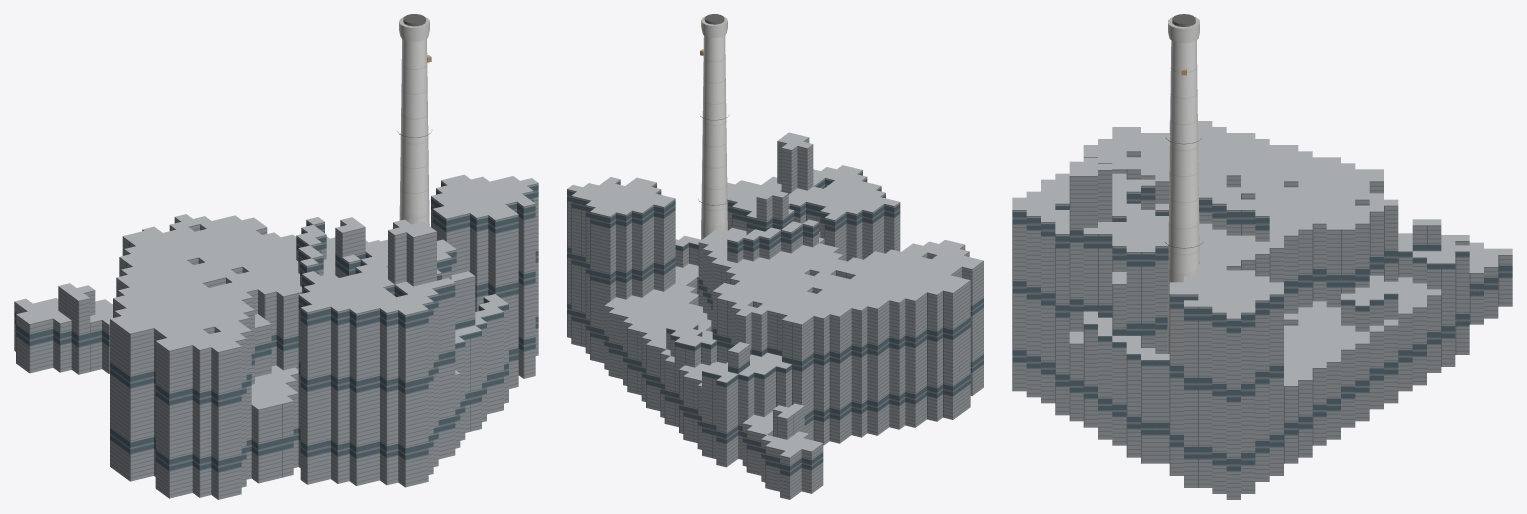
The model's file is kva_chimney.glb.
3 views of the same model, side by side, from view 1: azimuth 30°, elevation 25°; view 2: azimuth 150°, elevation 25°; view 3: azimuth 270°, elevation 25° (orthographic). The views are drawn at different scales.
Parts seen in each view (by area): view 1: kva; view 2: kva; view 3: kva.
Boxes of the visible parts, x1,y1,x2,y2 form: kva: (14, 14, 538, 499); kva: (567, 14, 983, 499); kva: (1012, 14, 1512, 499).
Bounding box in the file's own units: 111 × 97.2 × 105.
Materials: 2 (2 with a texture image).
